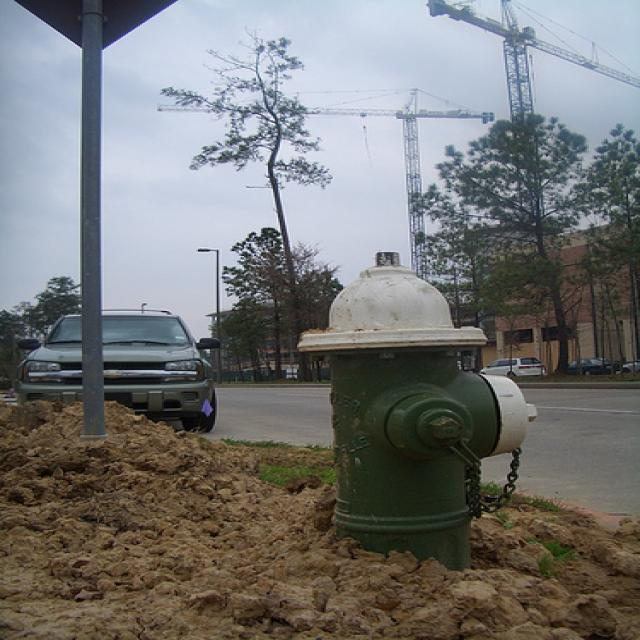fire_hydrant: (304, 252, 540, 570)
